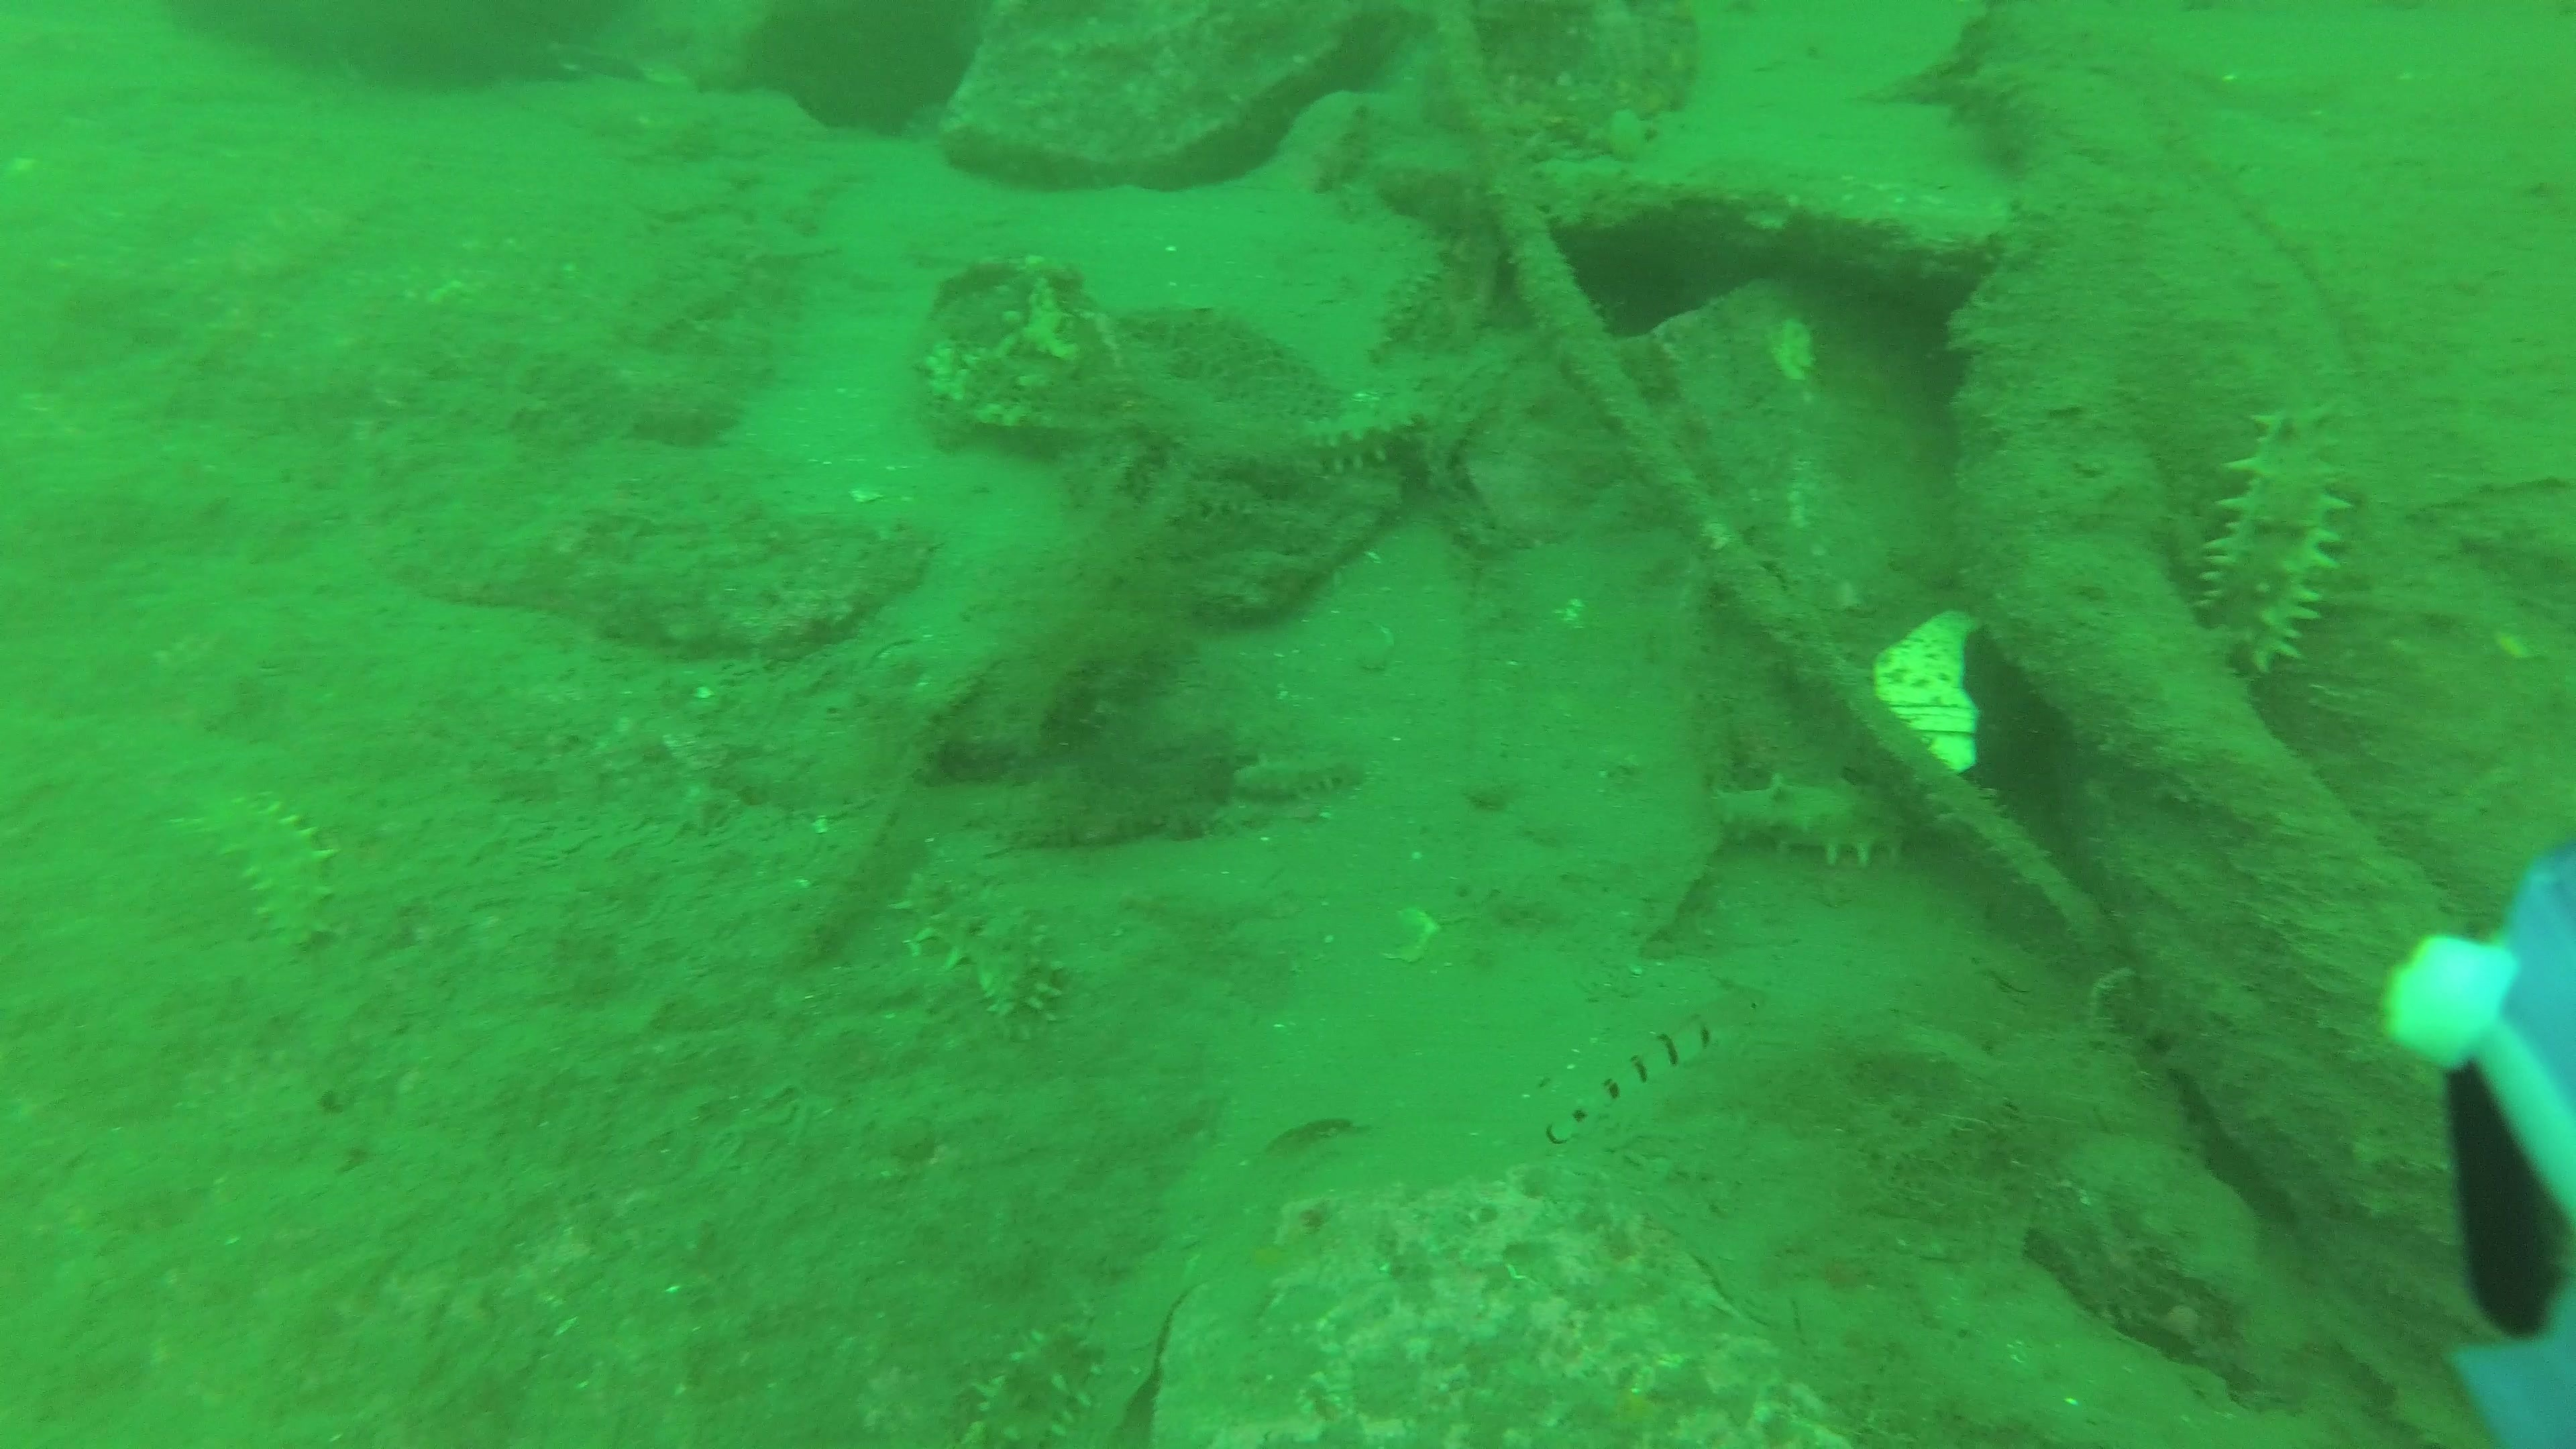holothurian: (2187, 386, 2369, 702), (901, 855, 1072, 1049), (186, 784, 345, 970), (1702, 763, 1941, 874), (959, 1307, 1116, 1449), (1290, 386, 1442, 478), (1231, 741, 1375, 810)
